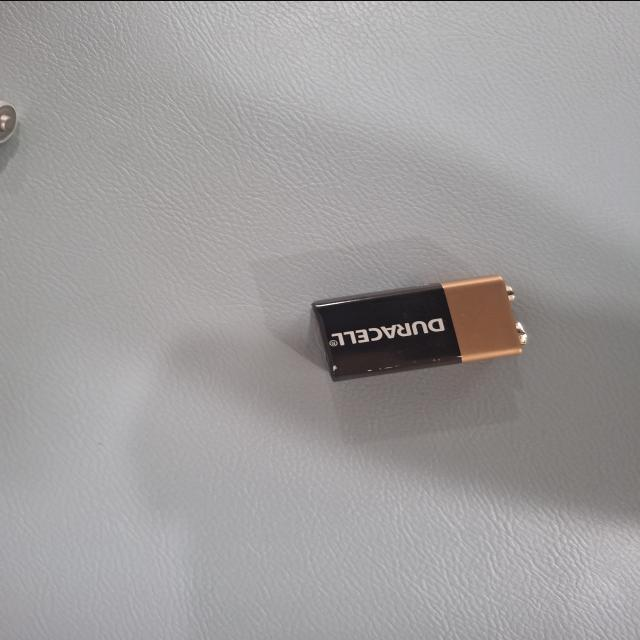9V: (113, 258, 330, 368)
